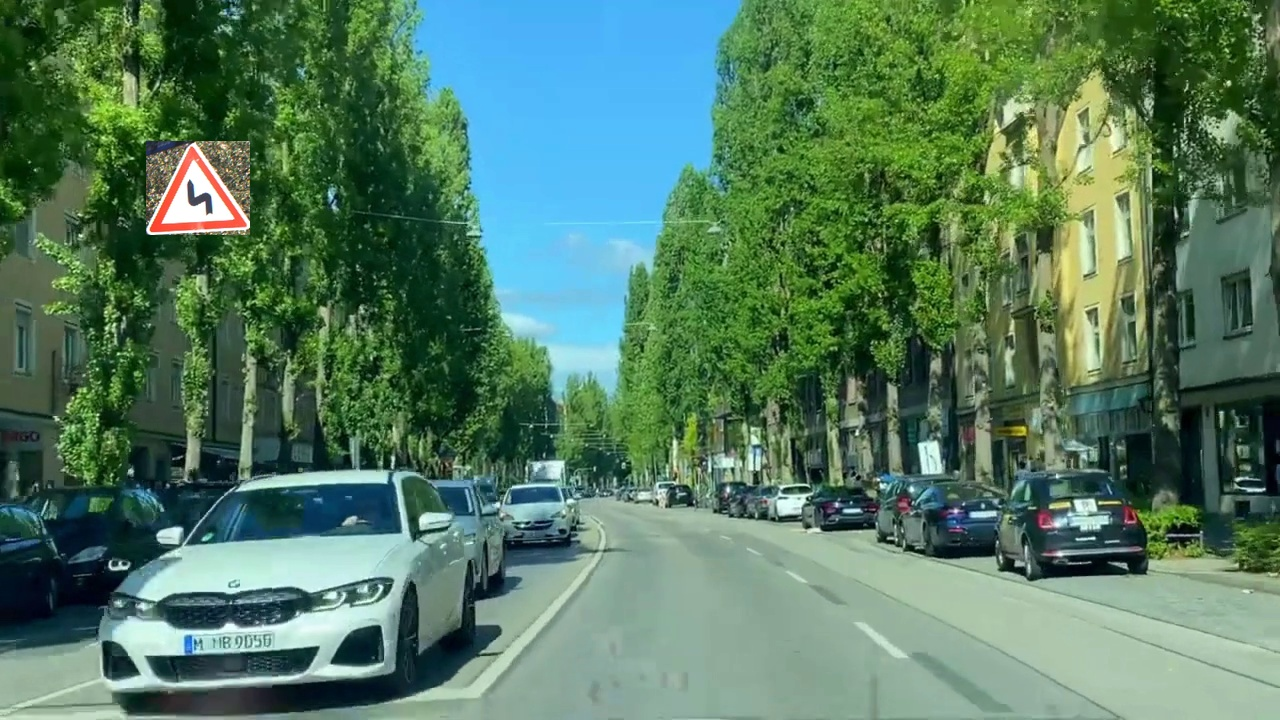Double curve: (146, 141, 250, 235)
